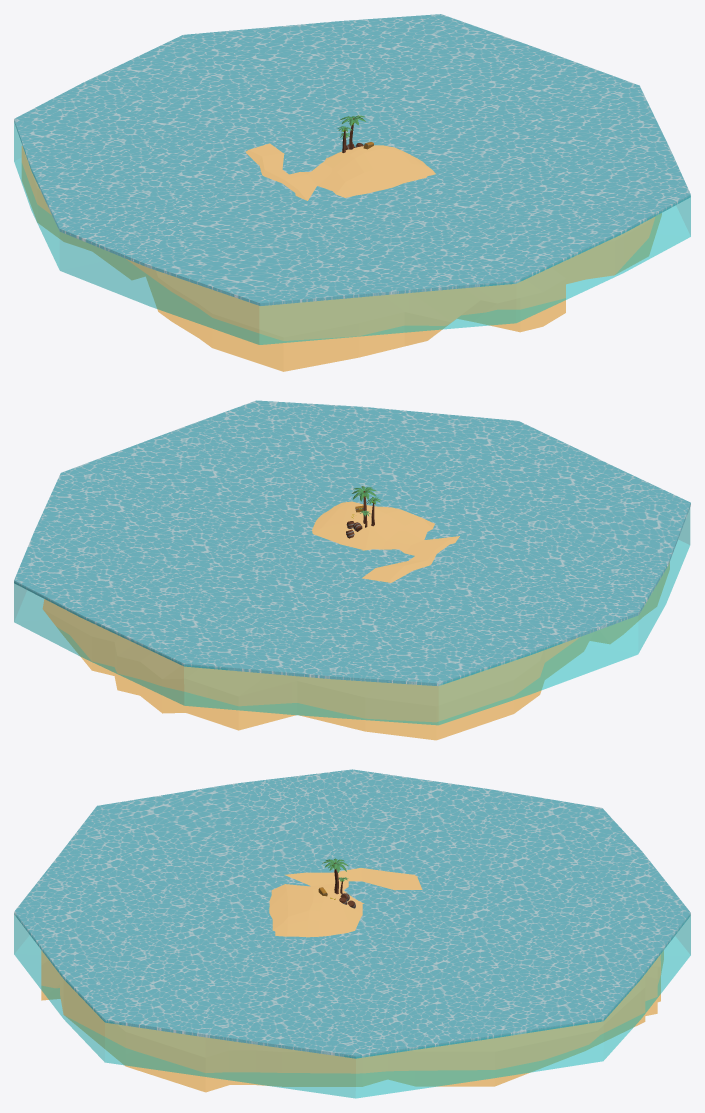
The model's file is island_decor_gltf.glb.
3 renders of one model, top to bottom at view 1: azimuth 30°, elevation 25°; view 2: azimuth 150°, elevation 25°; view 3: azimuth 270°, elevation 25°, orthographic.
Visible parts, largest first — view 1: Plane.003; view 2: Plane.003; view 3: Plane.003.
Boxes of the visible parts, bbox=[...] form: Plane.003: bbox=[14, 14, 690, 371]; Plane.003: bbox=[14, 400, 690, 740]; Plane.003: bbox=[14, 769, 690, 1098].
Size of the model in its own units: 258 by 51.56 by 258.
Materials: 18 (1 with a texture image).
